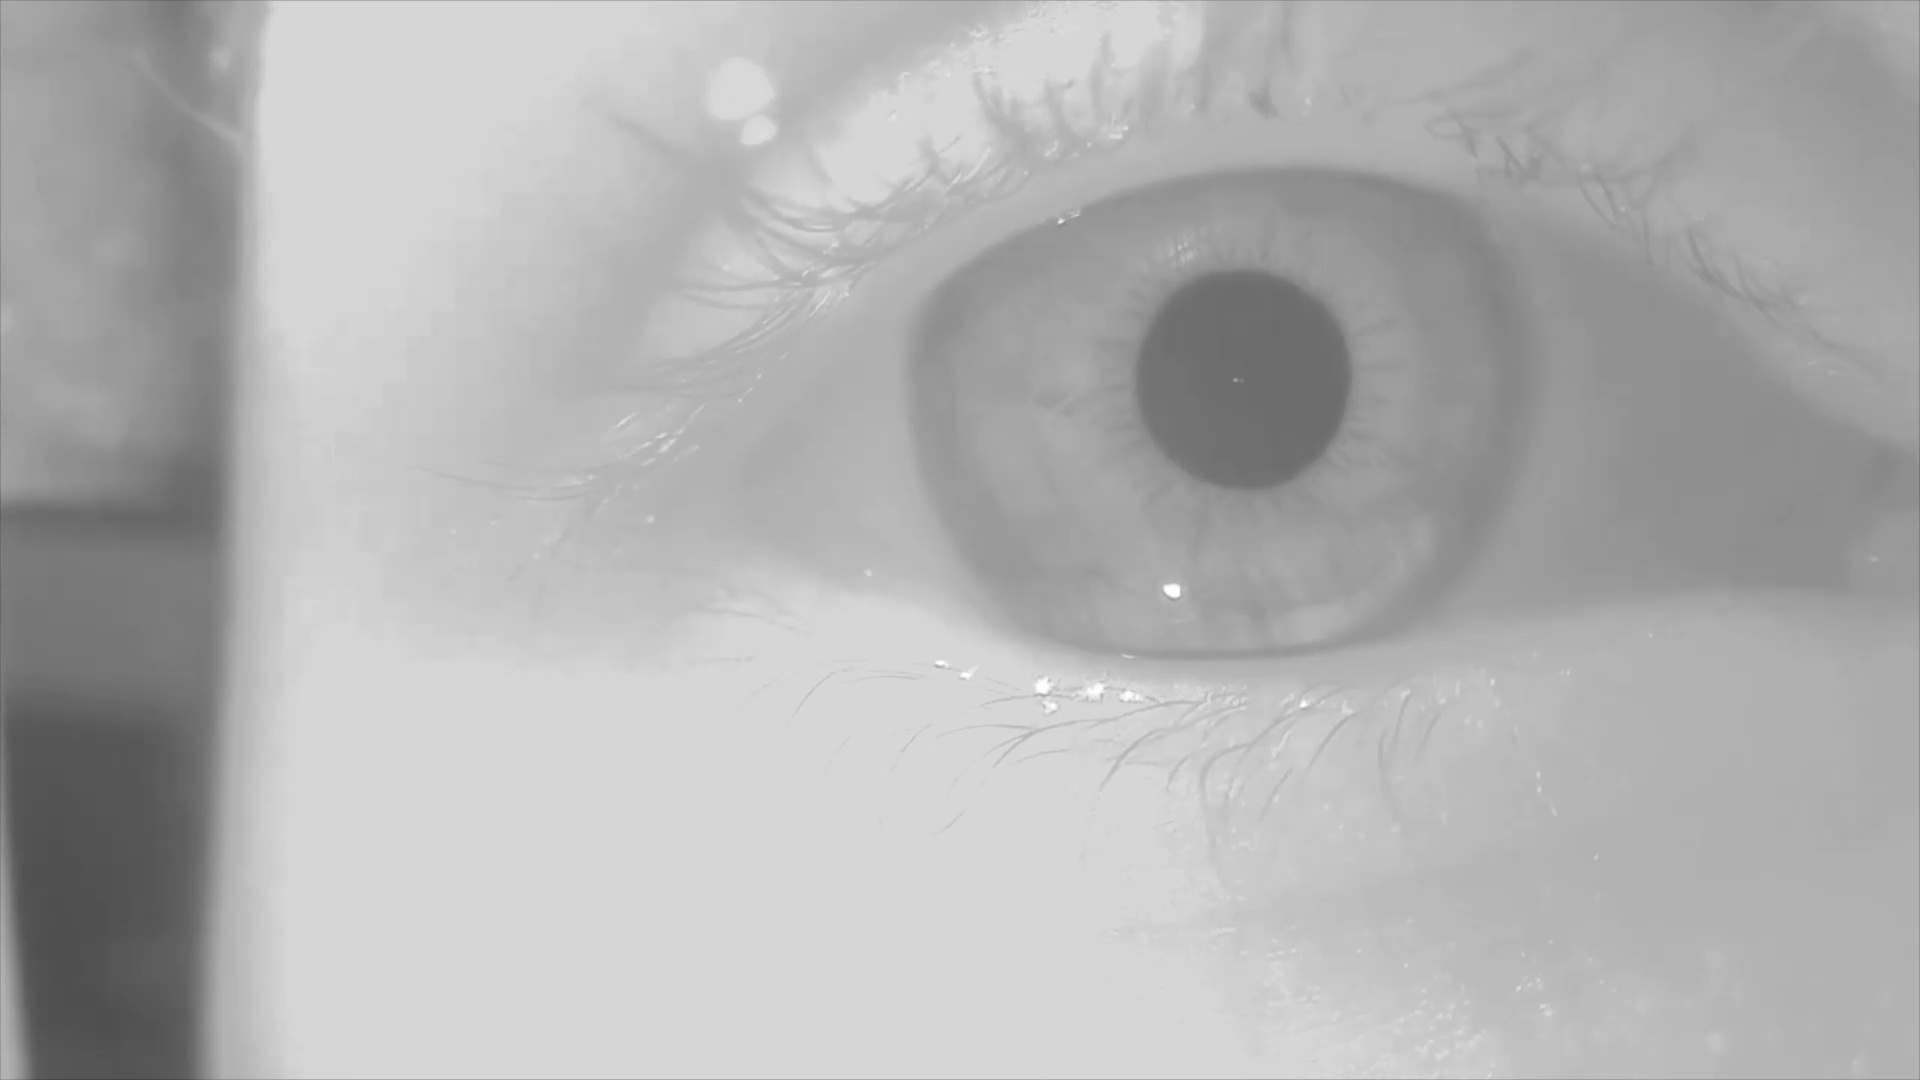pupil: (1136, 273, 1353, 488)
